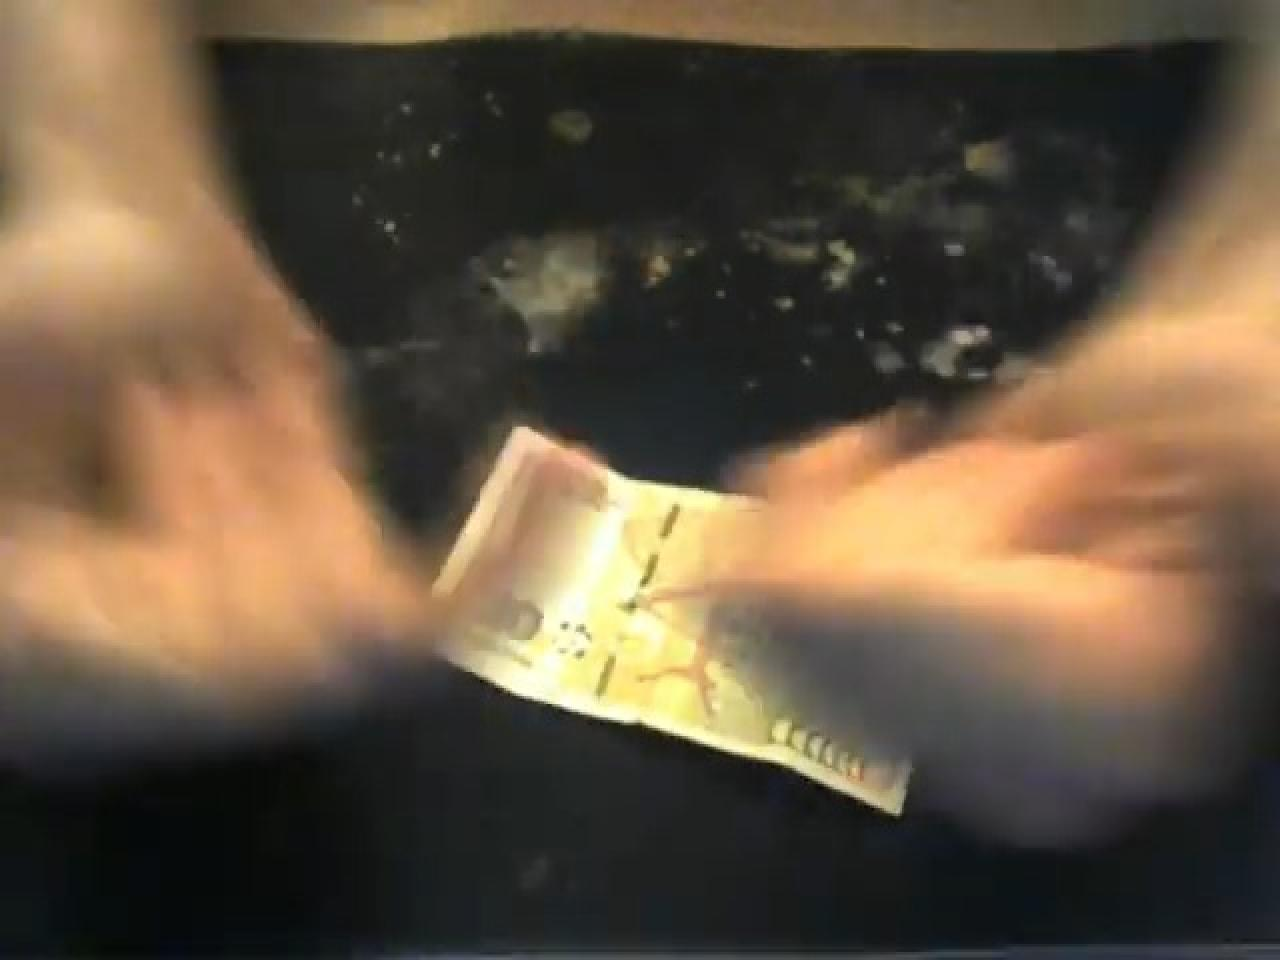10leva: (434, 430, 914, 821)
